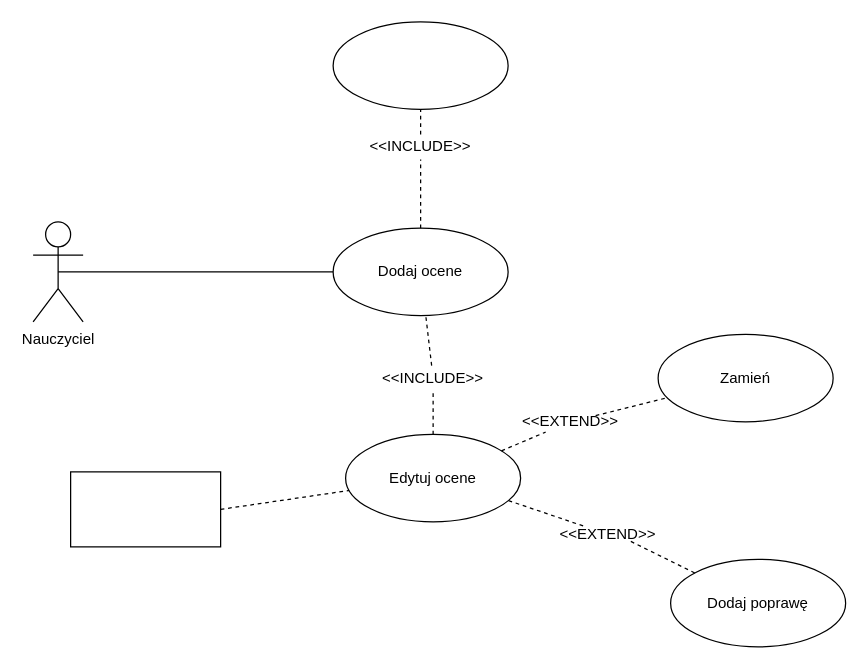
Some shapes in this 868 by 669 pixel diagram are drawn without their labels. Here are the shapes that lost their labels. From the top down, the centre of each, then its label:
At point 420,65: "Wybierz wagę oceny".
At point 145,509: "Warunek: Musi istnieć ocena".
